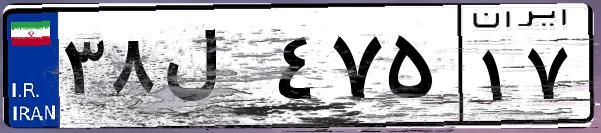1: (475, 38, 525, 113)
3: (57, 26, 110, 100)
4: (270, 28, 330, 110)
5: (385, 28, 445, 110)
7: (330, 28, 385, 110), (525, 38, 570, 115)
8: (110, 28, 158, 98)
ل: (158, 20, 270, 120)
